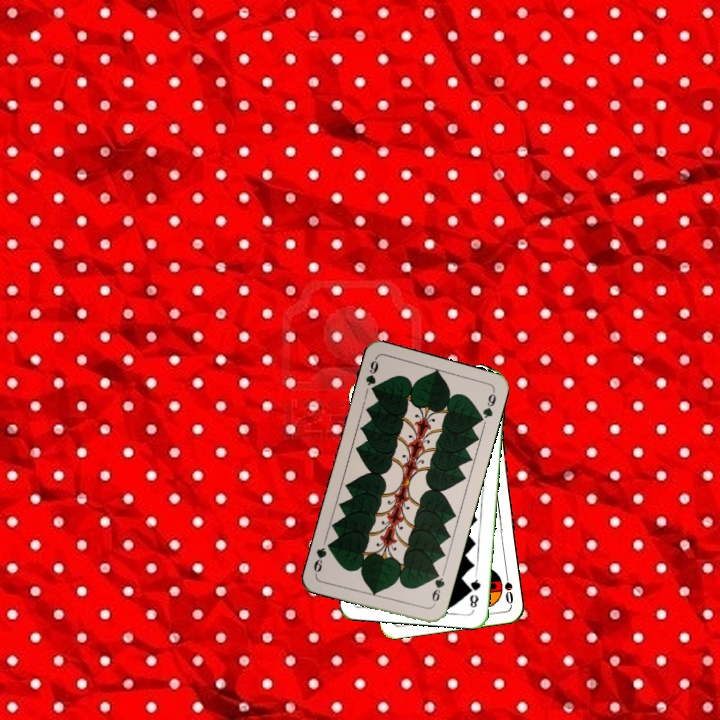G8: (465, 572, 483, 610)
G9: (362, 355, 381, 397), (428, 568, 447, 609)
SO: (500, 566, 516, 607)
